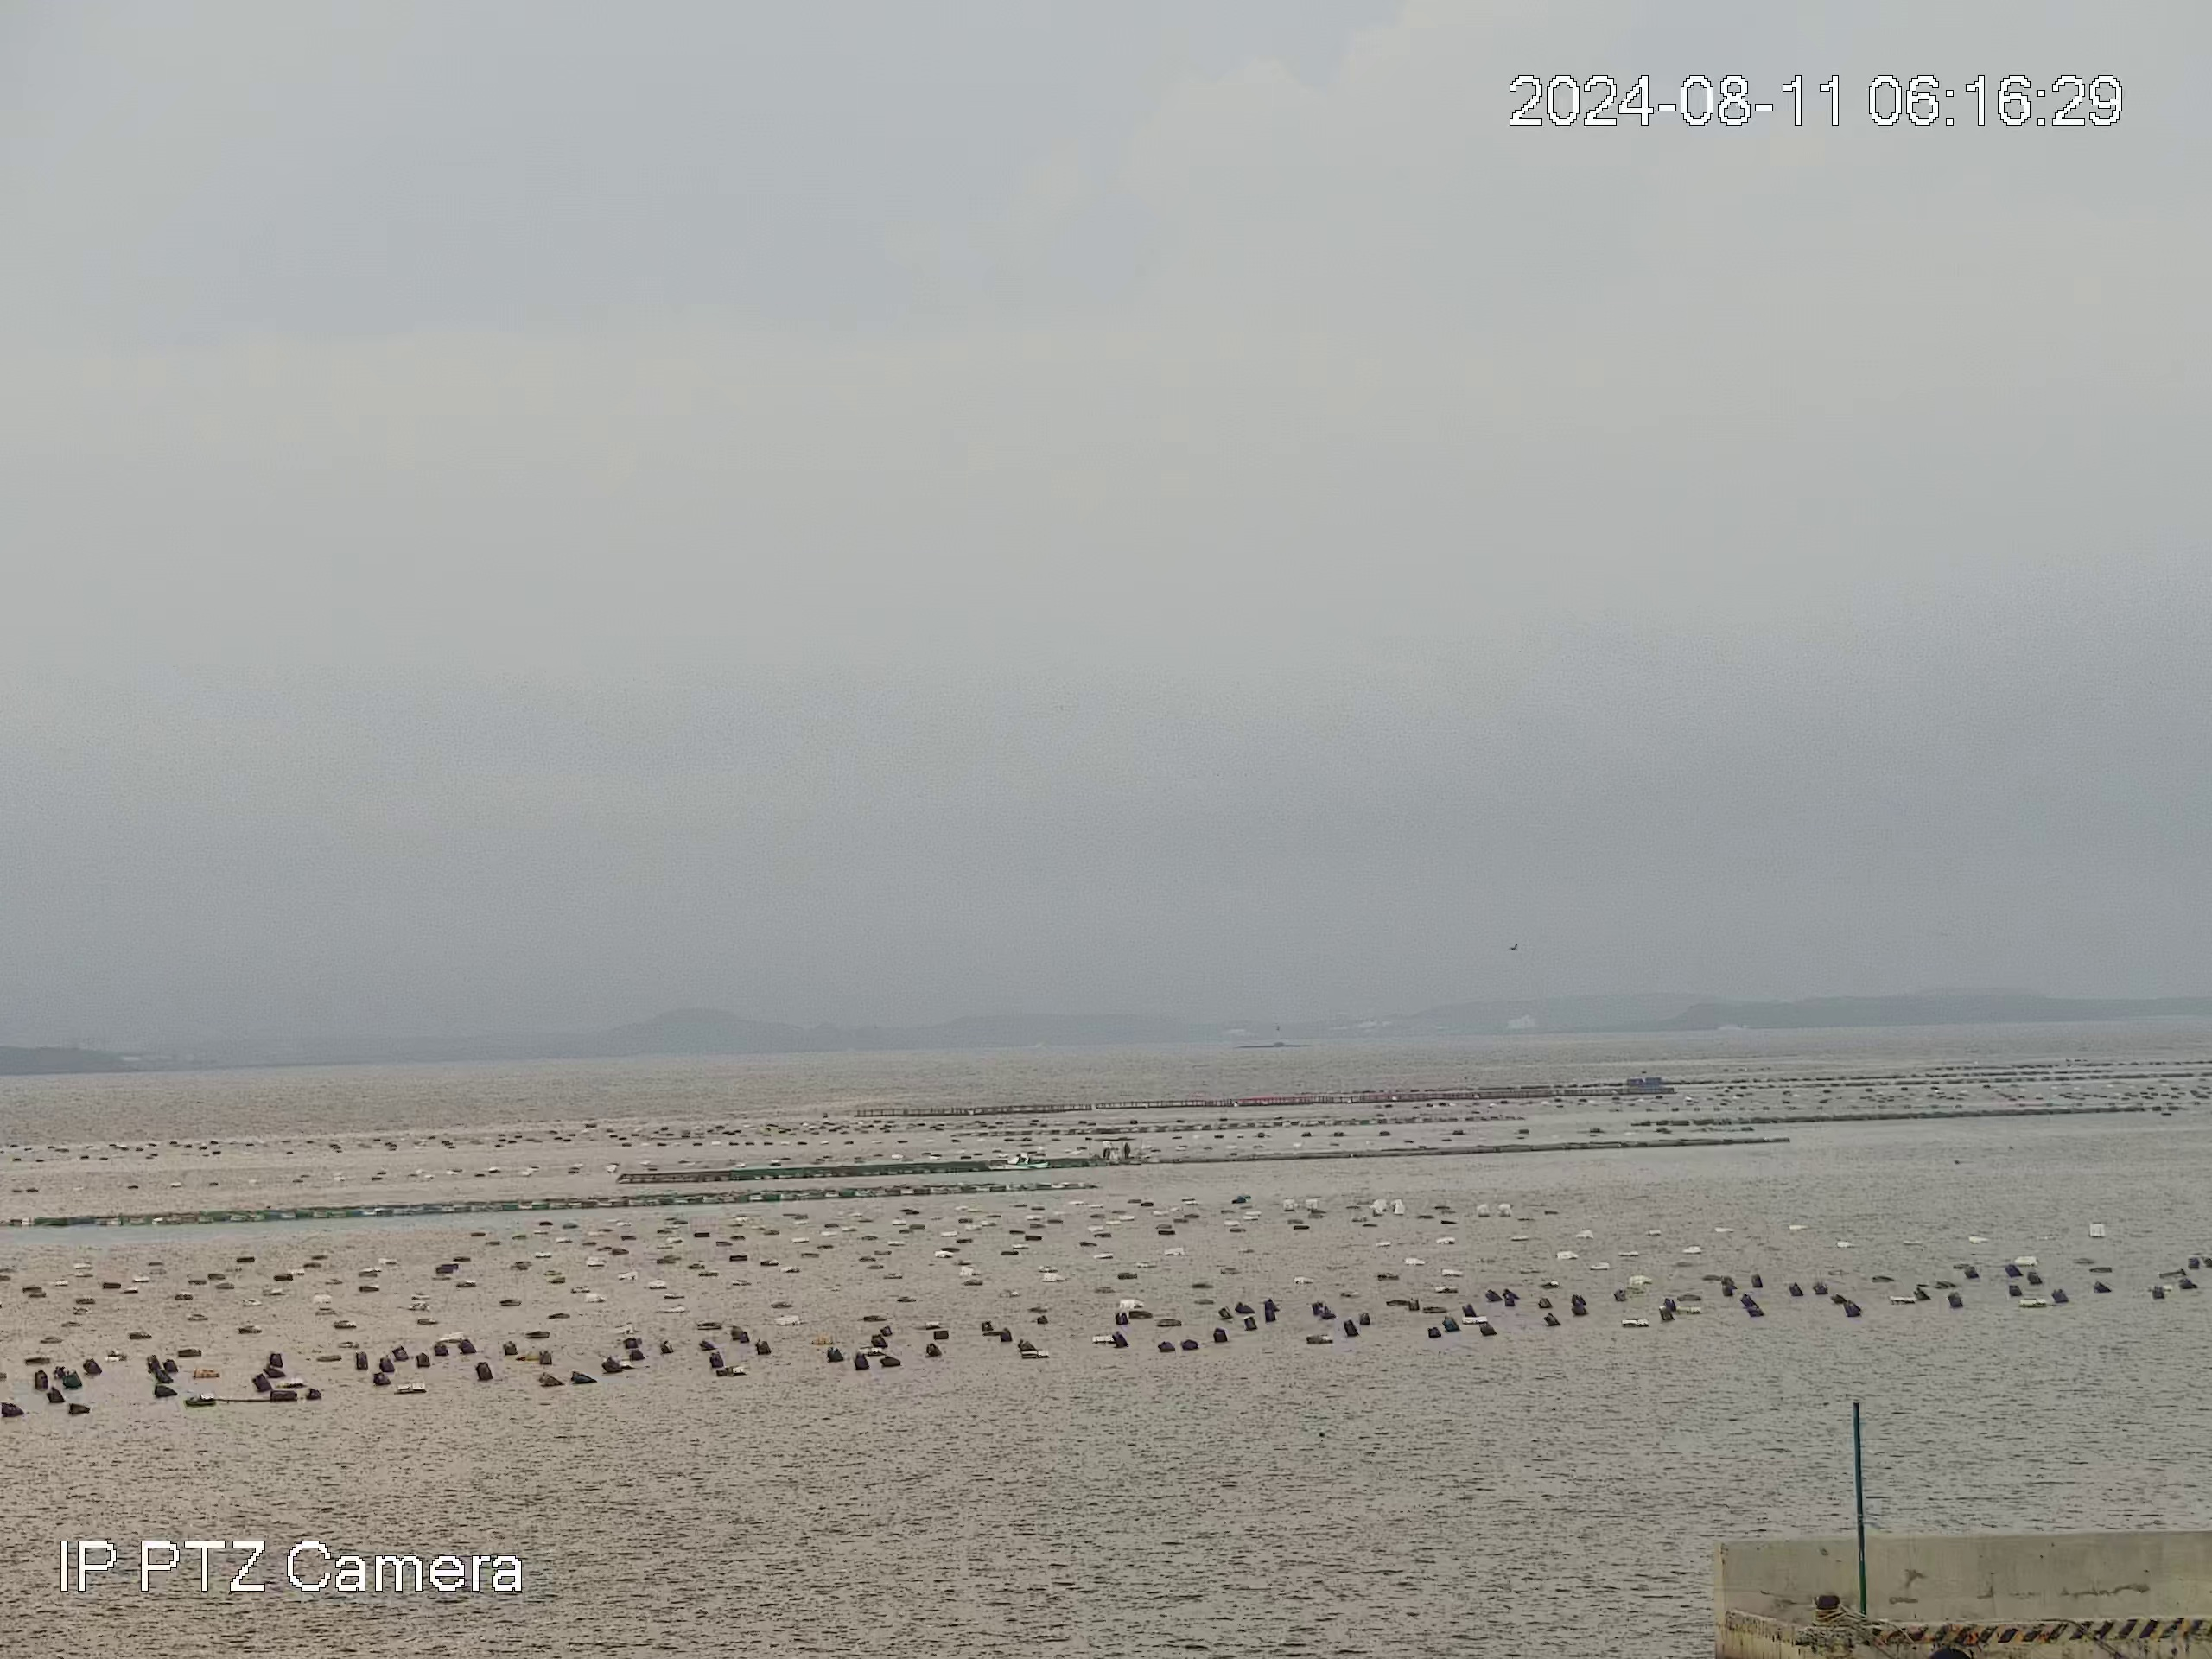boat: (982, 1150, 1052, 1173)
